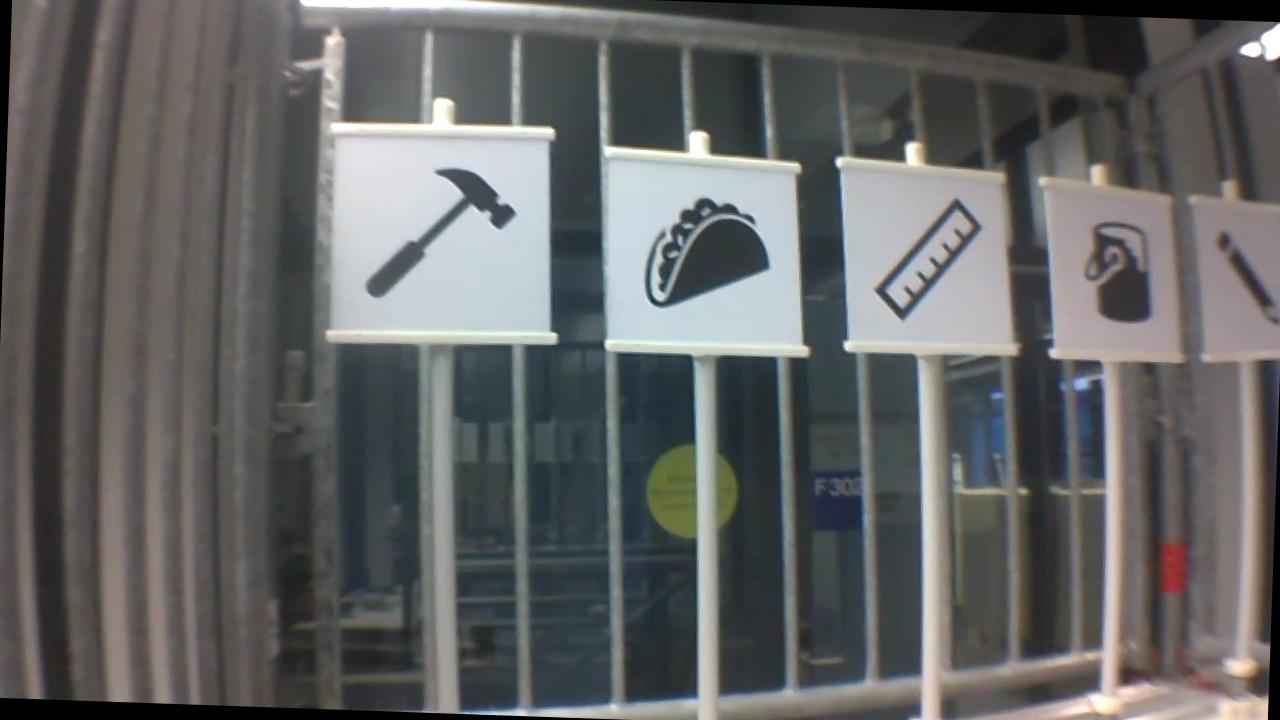bucket: (1068, 216, 1163, 329)
hammer: (357, 160, 523, 306)
pencil: (1205, 224, 1280, 335)
ruler: (869, 189, 989, 326)
taco: (637, 188, 780, 315)
